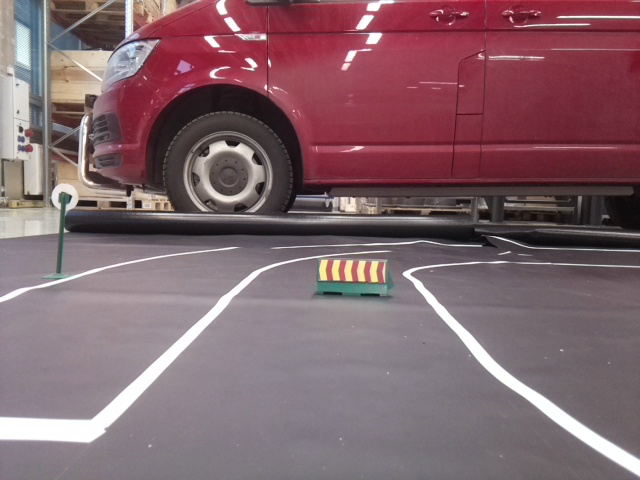ClosedRoadStand: (317, 256, 387, 295)
